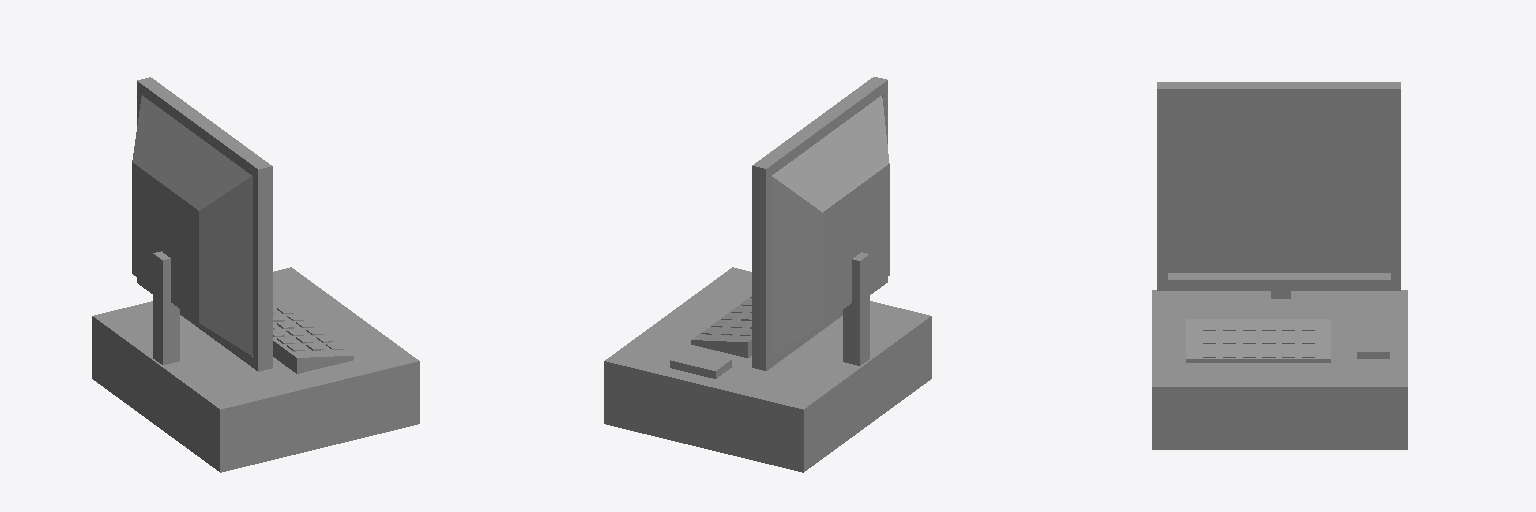
Rendered from police_computer.obj.
3 views of the same model, side by side, from view 1: azimuth 30°, elevation 25°; view 2: azimuth 150°, elevation 25°; view 3: azimuth 270°, elevation 25° (orthographic).
Parts seen in each view (by area): view 1: Cube; view 2: Cube; view 3: Cube.
Part boxes in pixels (bbox=[...]): Cube: bbox=[92, 77, 419, 472]; Cube: bbox=[604, 77, 931, 472]; Cube: bbox=[1152, 82, 1407, 449].
Bounding box in the file's own units: 0.7 × 0.9774 × 0.78.